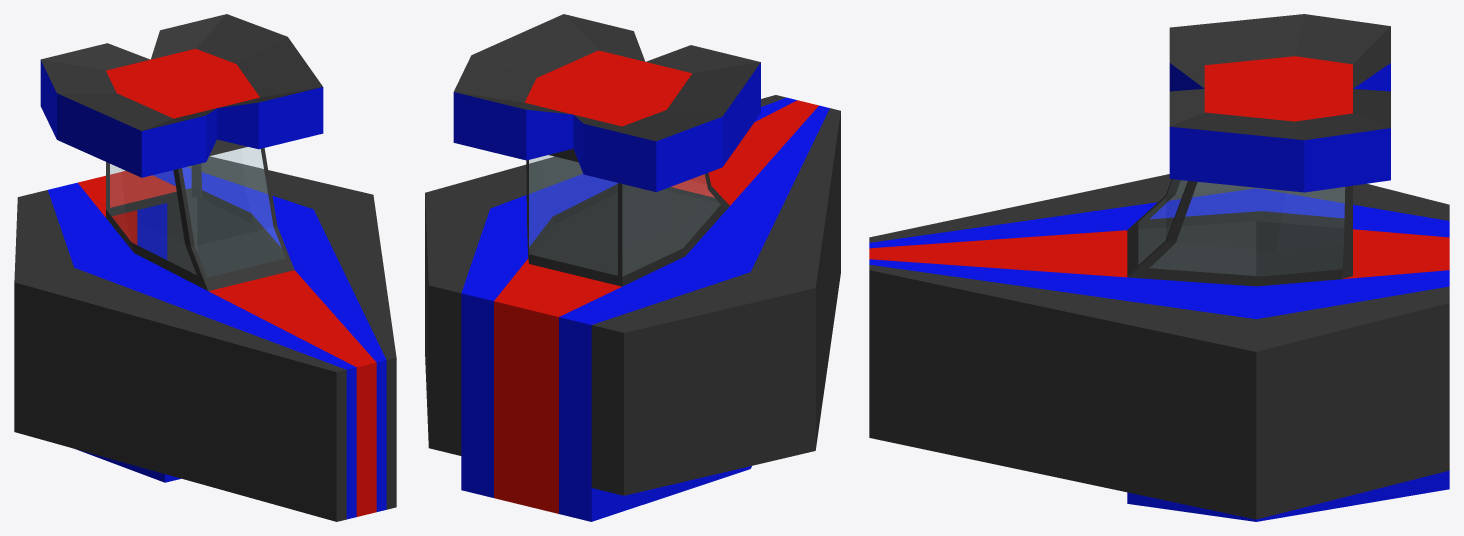
File: spaceship.fbx
The picture shows the model from 3 angles, left to right: view 1: azimuth 30°, elevation 25°; view 2: azimuth 150°, elevation 25°; view 3: azimuth 270°, elevation 25°; orthographic projection. The views are drawn at different scales.
Visible parts, largest first — view 1: spaceship; view 2: spaceship; view 3: spaceship.
Boxes of the visible parts, bbox=[...] form: spaceship: bbox=[14, 14, 396, 521]; spaceship: bbox=[425, 14, 840, 521]; spaceship: bbox=[869, 14, 1449, 521].
Bounding box in the file's own units: 1638 × 1476 × 2047.
